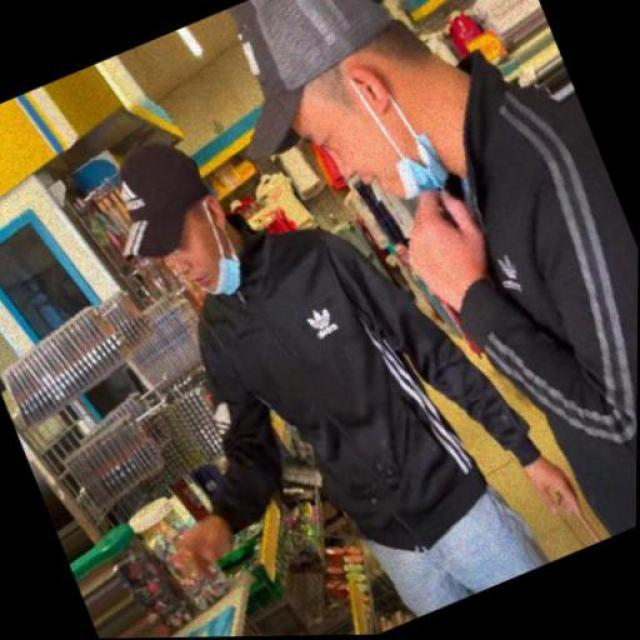hairnet: (296, 62, 450, 228), (164, 208, 252, 312)
